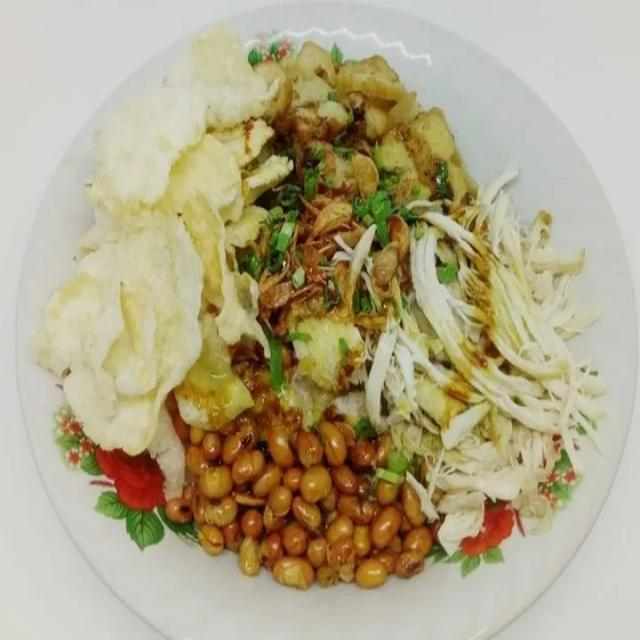bubur ayam: (39, 42, 610, 588)
